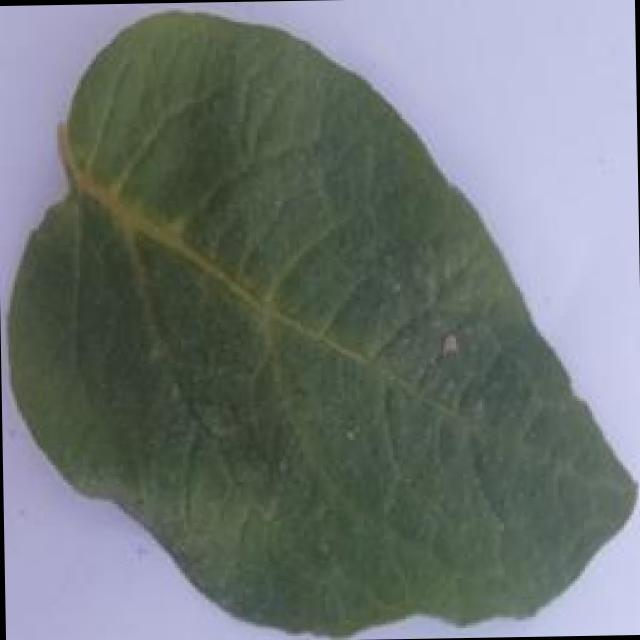Potato_Healthy: (3, 5, 624, 640)
